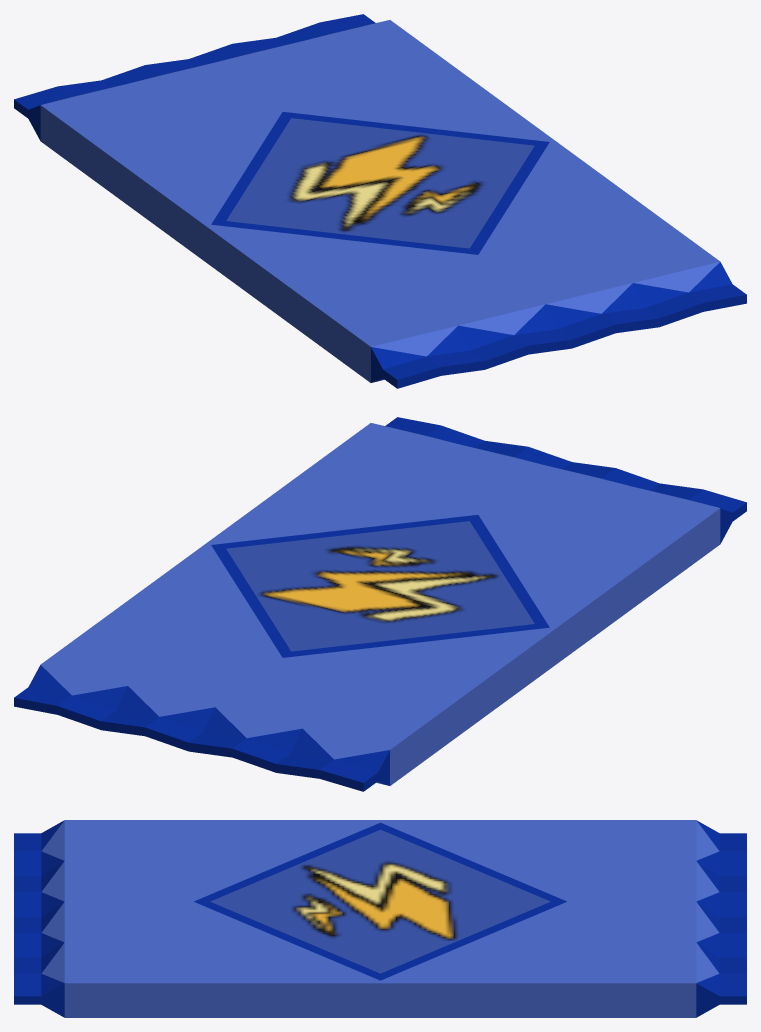
Rendered from CardPack_Lightning.fbx.
3 views of the same model, one above another, from view 1: azimuth 30°, elevation 25°; view 2: azimuth 150°, elevation 25°; view 3: azimuth 270°, elevation 25° (orthographic). The views are drawn at different scales.
Visible parts, largest first — view 1: Lightning; view 2: Lightning; view 3: Lightning.
Part boxes in pixels (left/top/right/bottom): Lightning: left=14, top=14, right=746, bottom=388; Lightning: left=14, top=417, right=746, bottom=791; Lightning: left=14, top=820, right=746, bottom=1017.
Size of the model in its own units: 17.42 by 1.73 by 33.09.
